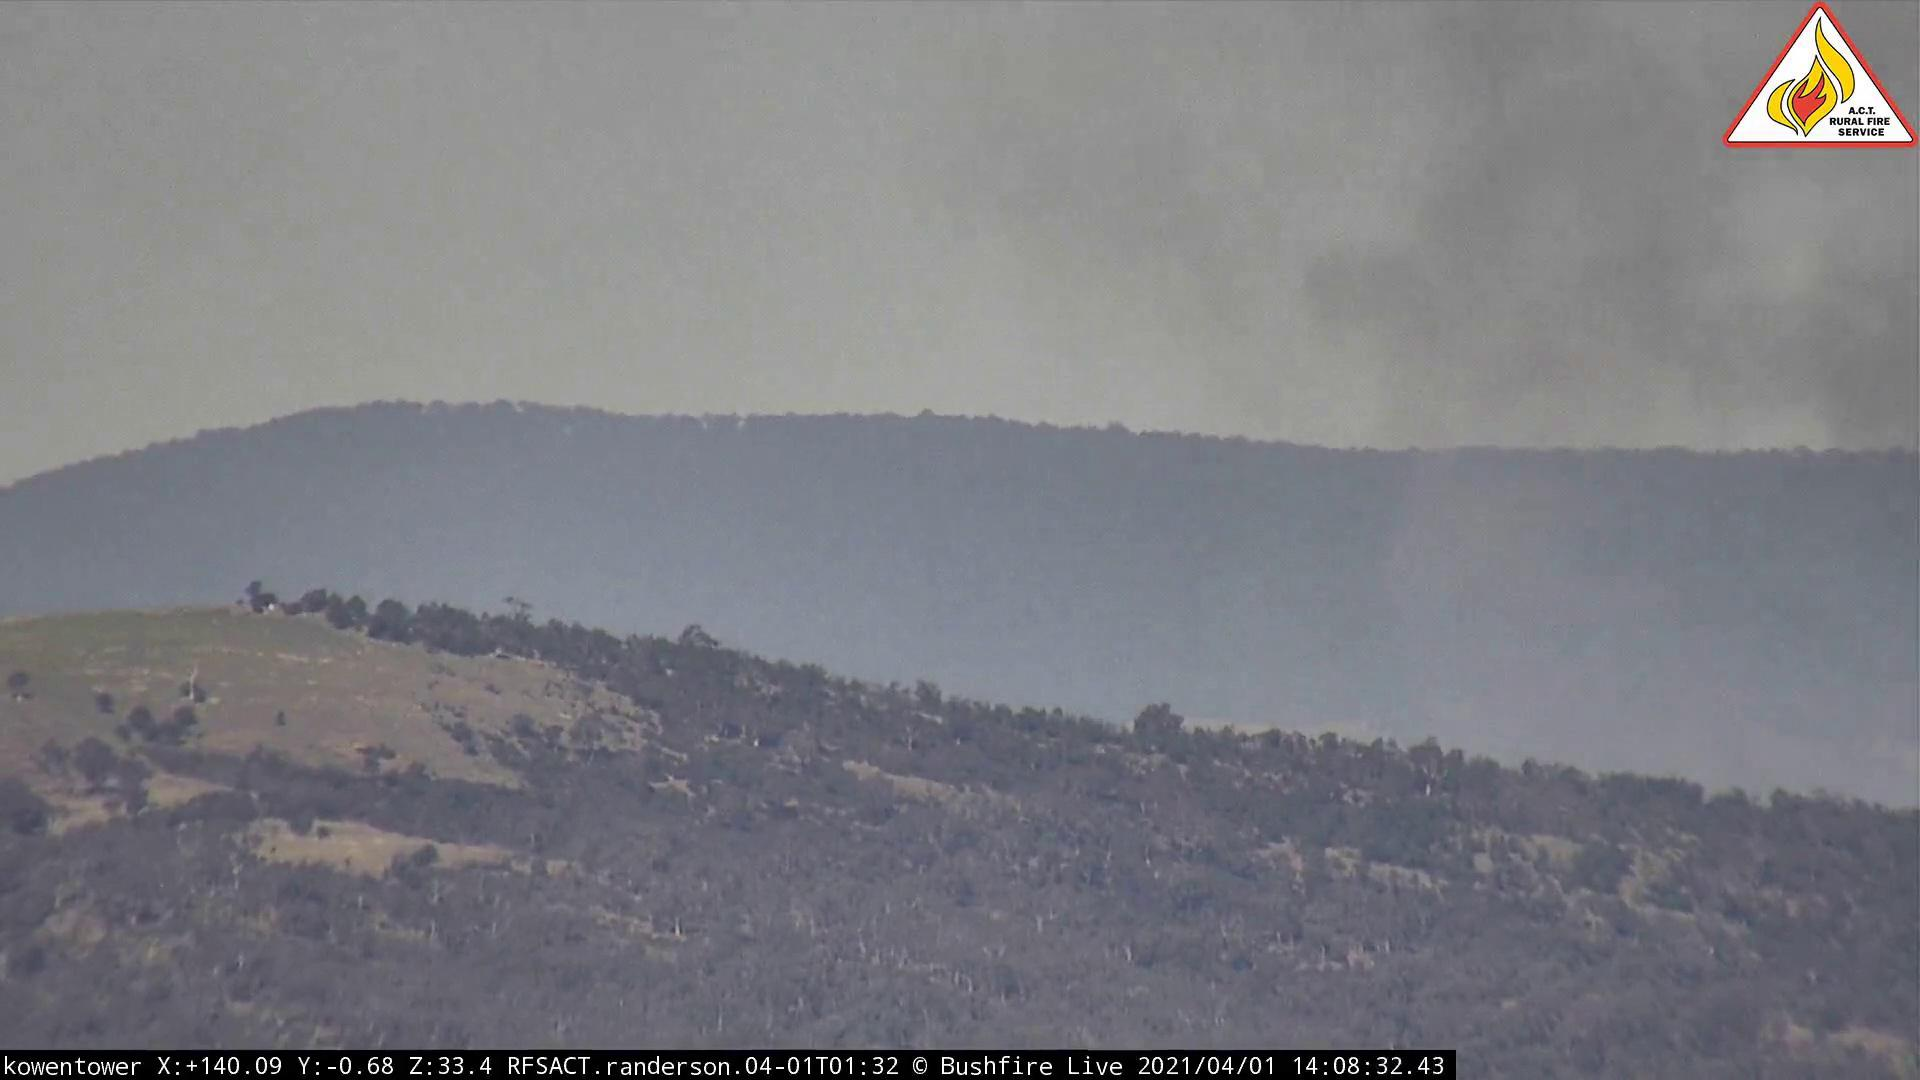Smoke: (952, 179, 1920, 793)
